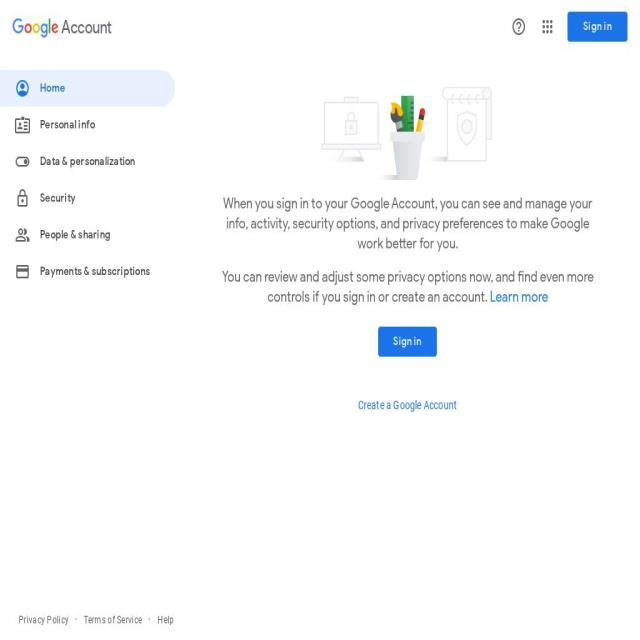button: (0, 70, 175, 107), (0, 143, 175, 180), (0, 180, 175, 217), (0, 253, 175, 290), (0, 107, 175, 143), (0, 217, 175, 253), (78, 600, 148, 640), (13, 600, 76, 640), (12, 18, 112, 38), (568, 12, 628, 42), (151, 600, 181, 640), (535, 10, 560, 43)
image: (309, 87, 506, 180), (540, 16, 555, 36), (15, 78, 30, 98), (15, 115, 30, 135), (15, 152, 30, 172), (15, 225, 30, 245)
link: (357, 398, 457, 412), (489, 287, 548, 306)
text: (215, 180, 600, 253), (221, 267, 594, 306), (40, 80, 165, 97), (40, 153, 165, 170), (40, 190, 165, 207), (40, 263, 165, 280), (40, 117, 165, 133), (40, 227, 165, 243), (59, 16, 112, 38)
